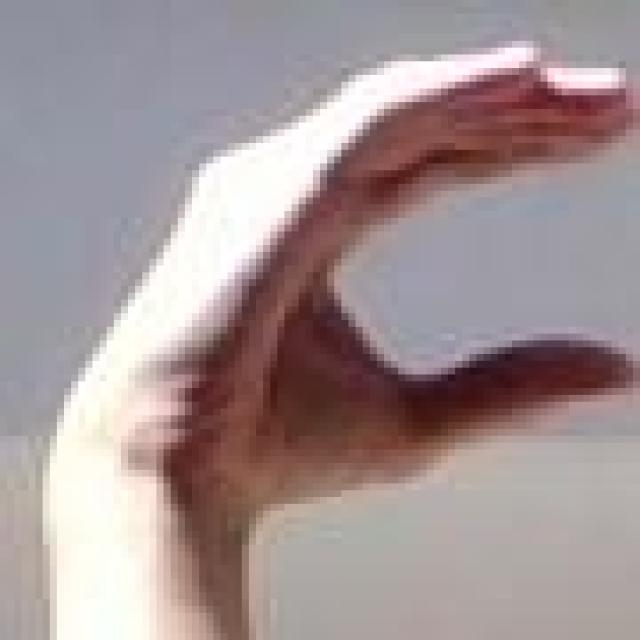C: (5, 2, 640, 547)
